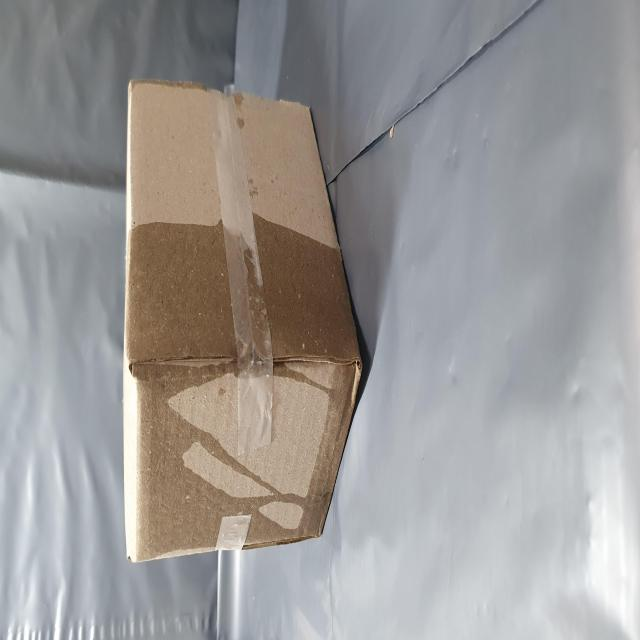wet: (40, 199, 246, 640)
